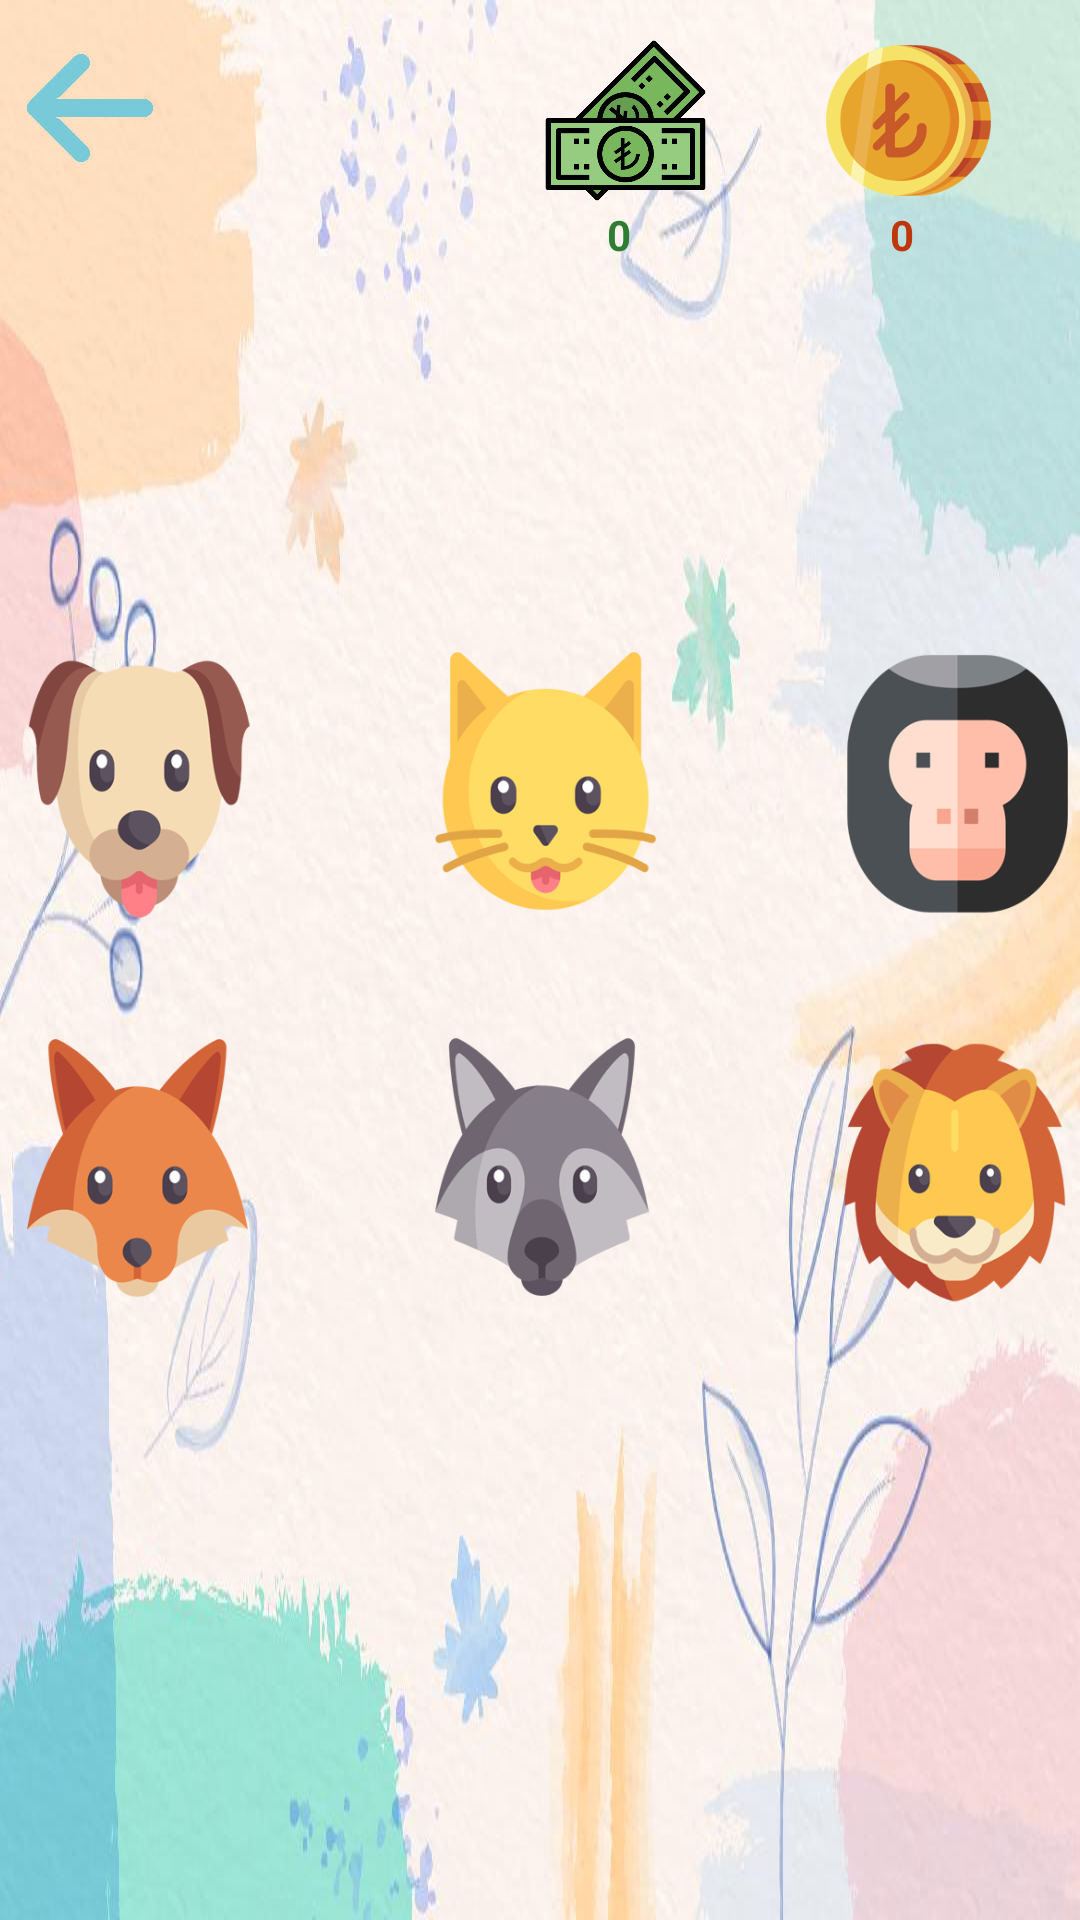

Icon bounding boxes for this 1080 × 1920 phone screenshot, format [left=x1, top=y1, right=x2, bottom=y2]:
back: [left=27, top=54, right=153, bottom=162]
cat: [left=435, top=652, right=656, bottom=910]
liracoin: [left=826, top=35, right=991, bottom=206]
wolf: [left=435, top=1038, right=649, bottom=1296]
